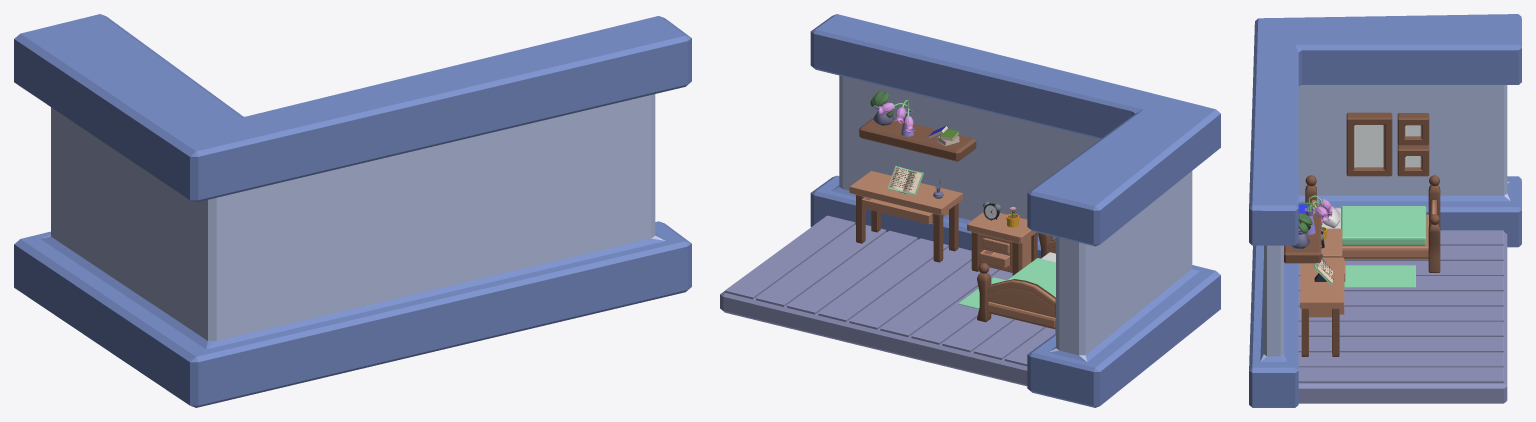
The model's file is practice_room.fbx.
3 renders of one model, left to right at view 1: azimuth 30°, elevation 25°; view 2: azimuth 150°, elevation 25°; view 3: azimuth 270°, elevation 25°, orthographic. The views are drawn at different scales.
Visible parts, largest first — view 1: Cube; view 2: Cube, Plane.001, Plane, Cube.009, Cube.002, Plane.003, Cube.010, Cube.003, Cube.004, Plane.006, Plane.004, Cube.005 (+2 smaller); view 3: Cube, Plane.001, Cube.001, Plane, Plane.006, Cube.009, Plane.008, Plane.004, Plane.002, Cube.002, Cube.010, Cube.004 (+1 smaller).
Part boxes in pixels (bbox=[...]): Cube: bbox=[14, 14, 691, 407]; Cube: bbox=[810, 14, 1220, 407]; Plane.001: bbox=[725, 215, 1055, 366]; Plane: bbox=[720, 224, 1046, 386]; Cube.009: bbox=[849, 171, 962, 224]; Cube.002: bbox=[859, 118, 976, 161]; Plane.003: bbox=[987, 239, 1055, 317]; Cube.010: bbox=[856, 195, 958, 262]; Cube.003: bbox=[979, 234, 1031, 272]; Cube.004: bbox=[967, 212, 1036, 243]; Plane.006: bbox=[1007, 258, 1055, 297]; Plane.004: bbox=[977, 233, 1055, 333]; Cube.005: bbox=[971, 232, 1037, 275]; Cube: bbox=[1249, 14, 1521, 407]; Plane.001: bbox=[1298, 230, 1503, 383]; Cube.001: bbox=[1346, 112, 1429, 176]; Plane: bbox=[1298, 232, 1507, 403]; Plane.006: bbox=[1341, 206, 1426, 245]; Cube.009: bbox=[1300, 257, 1344, 317]; Plane.008: bbox=[1344, 265, 1415, 287]; Plane.004: bbox=[1305, 175, 1440, 272]; Plane.002: bbox=[1342, 214, 1438, 259]; Cube.002: bbox=[1284, 205, 1321, 263]; Cube.010: bbox=[1301, 308, 1339, 356]; Cube.004: bbox=[1321, 228, 1342, 257].
Size of what is drawn, in the model's own units: 443 by 215 by 261.
